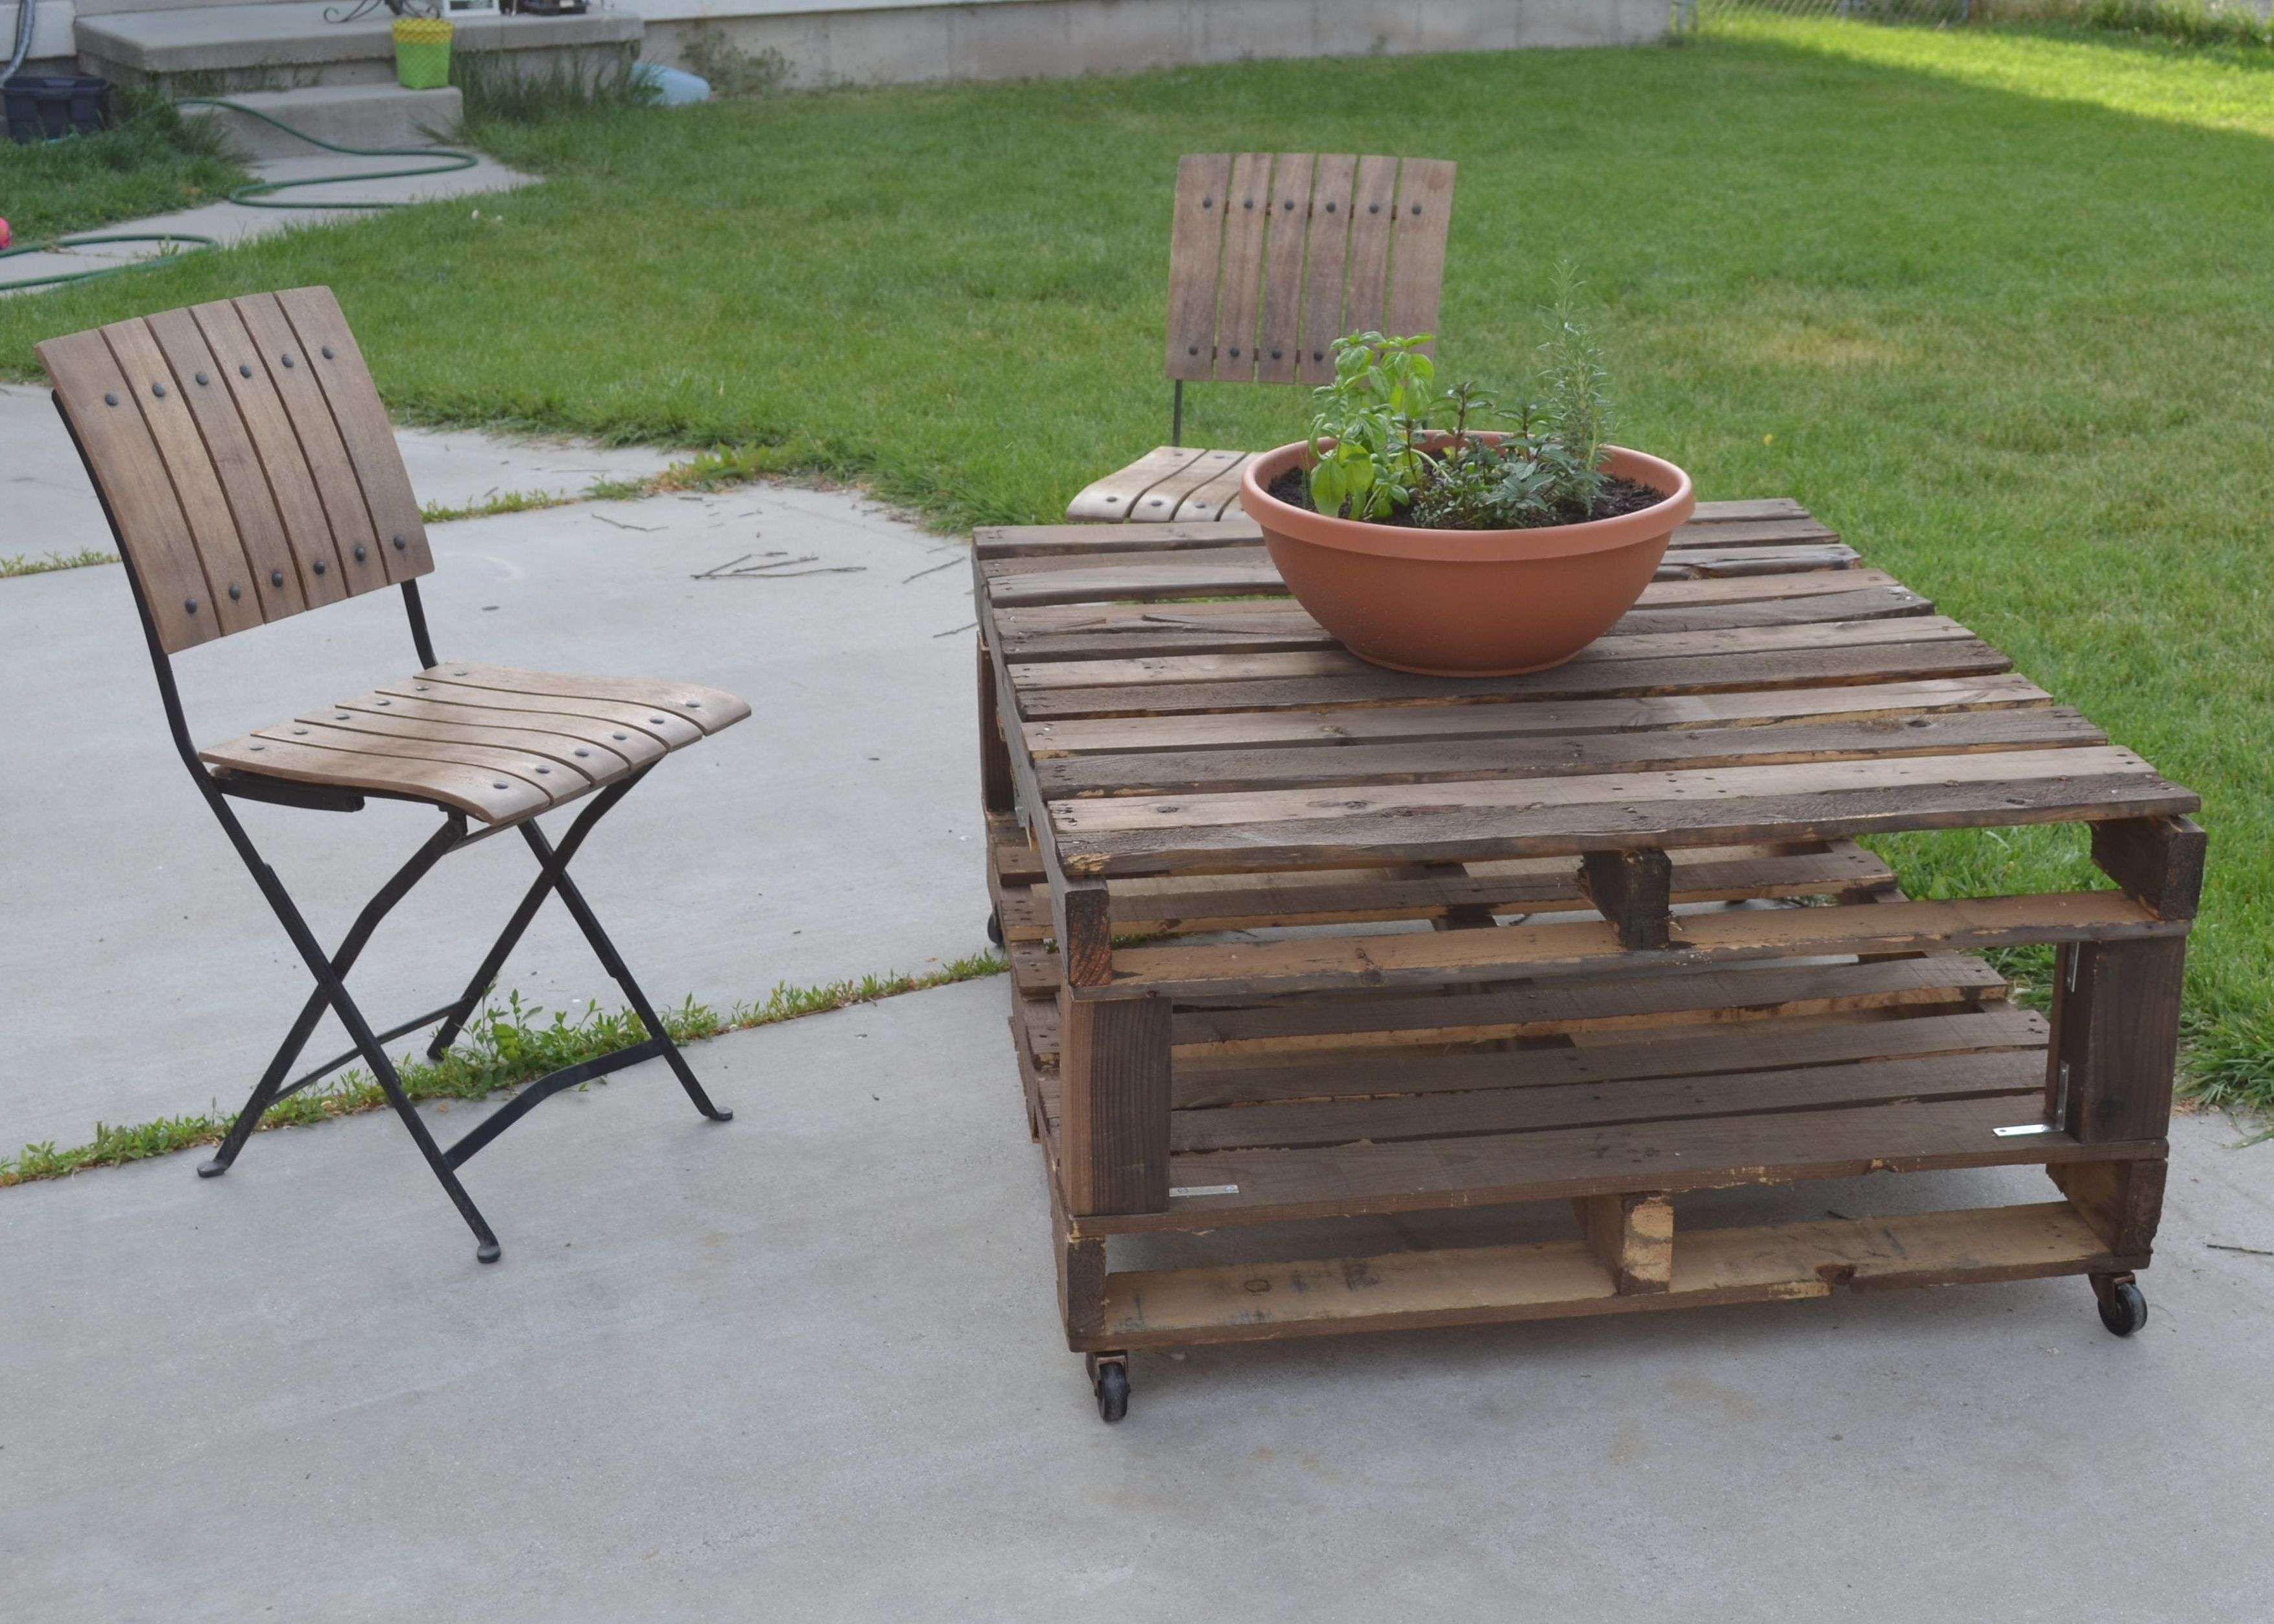Table: (933, 432, 2197, 1413)
